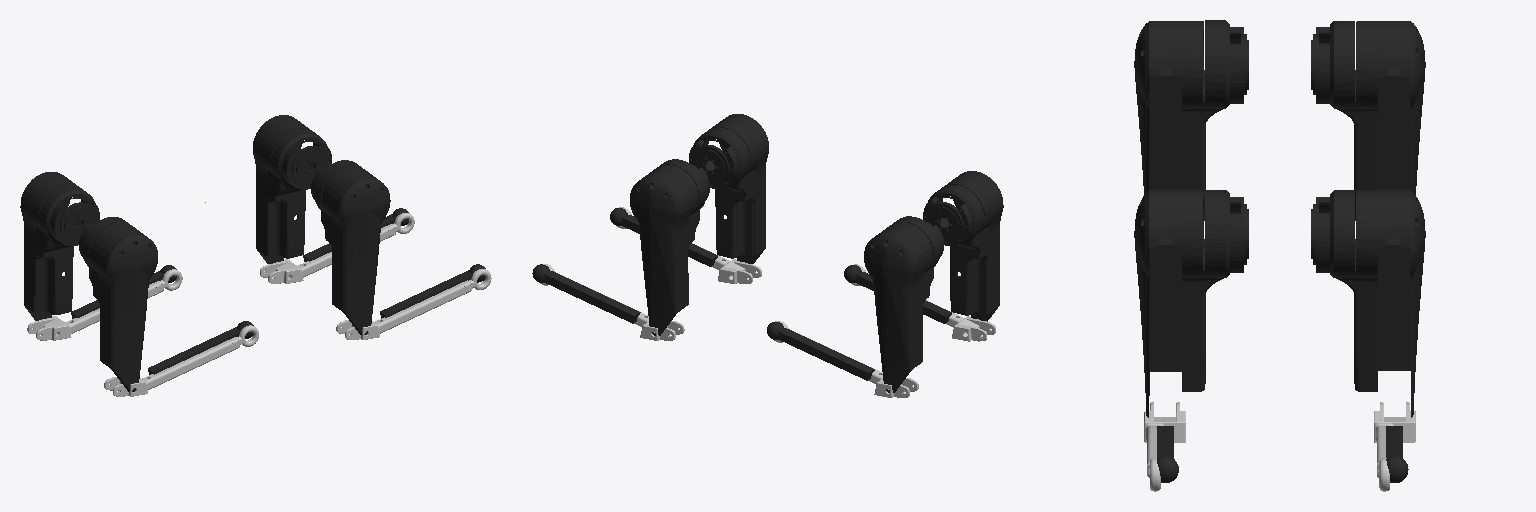
The robot description file, URDF, robot "robot":
<?xml version="1.0" ?>
<robot name="robot">
  <material name="black">
    <color rgba="0.0 0.0 0.0 1.0"/>
  </material>
  <material name="blue">
    <color rgba="0.0 0.0 0.8 1.0"/>
  </material>
  <material name="green">
    <color rgba="0.0 0.8 0.0 1.0"/>
  </material>
  <material name="grey">
    <color rgba="0.2 0.2 0.2 1.0"/>
  </material>
  <material name="silver">
    <color rgba="0.9137254901960784 0.9137254901960784 0.8470588235294118 1.0"/>
  </material>
  <material name="orange">
    <color rgba="1.0 0.4235294117647059 0.0392156862745098 1.0"/>
  </material>
  <material name="brown">
    <color rgba="0.8705882352941177 0.8117647058823529 0.7647058823529411 1.0"/>
  </material>
  <material name="red">
    <color rgba="0.8 0.0 0.0 1.0"/>
  </material>
  <material name="white">
    <color rgba="1.0 1.0 1.0 1.0"/>
  </material>
  <link name="base">
    <visual>
      <origin rpy="0 0 0" xyz="0 0 0"/>
      <geometry>
        <box size="0.001 0.001 0.001"/>
      </geometry>
    </visual>
  </link>
  <joint name="floating_base" type="fixed">
    <origin rpy="0 0 0" xyz="0 0 0"/>
    <parent link="base"/>
    <child link="trunk"/>
  </joint>
  <link name="trunk">
    <visual>
      <origin rpy="0 0 0" xyz="0 0 0"/>
      <geometry>
        <mesh filename="../meshes/trunk.dae" scale="1 1 1"/>
      </geometry>
      <material name="grey"/>
    </visual>
    <collision>
      <origin rpy="0 0 0" xyz="0 0 0"/>
      <geometry>
        <box size="0.647 0.15 0.112"/>
      </geometry>
    </collision>
    <inertial>
      <origin rpy="0 0 0" xyz="0.008465 0.004045 -0.000763"/>
      <mass value="5.21"/>
      <inertia ixx="0.050874" ixy="-0.000451628" ixz="0.000487603" iyy="0.64036" iyz="4.8356e-05" izz="0.65655"/>
    </inertial>
  </link>
  <joint name="FR_hip_joint" type="revolute">
    <origin rpy="0 0 0" xyz="0.2407 -0.051 0"/>
    <parent link="trunk"/>
    <child link="FR_hip"/>
    <axis xyz="1 0 0"/>
    <dynamics damping="0.05" friction="0.01"/>
    <limit effort="23.7" lower="-1.0471975512" upper="1.0471975512" velocity="30.1"/>
  </joint>
  <link name="FR_hip">
    <visual>
      <origin rpy="3.141592653589793 0 0" xyz="0 0 0"/>
      <geometry>
        <mesh filename="../meshes/hip.dae" scale="1 1 1"/>
      </geometry>
      <material name="grey"/>
    </visual>
    <collision>
      <origin rpy="1.5707963267948966 0 0" xyz="0 0 0"/>
      <geometry>
        <cylinder length="0.0418" radius="0.046"/>
      </geometry>
    </collision>
    <inertial>
      <origin rpy="0 0 0" xyz="-0.022191 -0.015144 -1.5e-05"/>
      <mass value="1.993"/>
      <inertia ixx="0.002903894" ixy="7.185e-05" ixz="-1.262e-06" iyy="0.004907517" iyz="1.75e-06" izz="0.005586944"/>
    </inertial>
  </link>
  <joint name="FR_thigh_joint" type="revolute">
    <origin rpy="0 0 0" xyz="0 -0.0868 0"/>
    <parent link="FR_hip"/>
    <child link="FR_thigh"/>
    <axis xyz="0 1 0"/>
    <dynamics damping="0.05" friction="0.01"/>
    <limit effort="23.7" lower="-0.663225115758" upper="2.96705972839" velocity="30.1"/>
  </joint>
  <link name="FR_thigh">
    <visual>
      <origin rpy="0 0 0" xyz="0 0 0"/>
      <geometry>
        <mesh filename="../meshes/thigh.dae" scale="1 1 1"/>
      </geometry>
      <material name="grey"/>
    </visual>
    <collision>
      <origin rpy="0 1.6707963267948966 0" xyz="-0.015 0 -0.125"/>
      <geometry>
        <box size="0.25 0.0374 0.043"/>
      </geometry>
    </collision>
    <collision>
      <origin rpy="1.5707963267948966 0 0" xyz="0 -0.0 0"/>
      <geometry>
        <cylinder length="0.03" radius="0.044"/>
      </geometry>
    </collision>
    <inertial>
      <origin rpy="0 0 0" xyz="-0.005607 0.003877 -0.048199"/>
      <mass value="0.639"/>
      <inertia ixx="0.005666803" ixy="-3.597e-06" ixz="0.000491446" iyy="0.005847229" iyz="-1.0086e-05" izz="0.000369811"/>
    </inertial>
  </link>
  <joint name="FR_calf_joint" type="revolute">
    <origin rpy="0 0 0" xyz="0 0 -0.25"/>
    <parent link="FR_thigh"/>
    <child link="FR_calf"/>
    <axis xyz="0 1 0"/>
    <dynamics damping="0.05" friction="0.01"/>
    <limit effort="23.7" lower="-2.72271363311" upper="-0.837758040957" velocity="30.1"/>
  </joint>
  <link name="FR_calf">
    <visual>
      <origin rpy="0 0 0" xyz="0 0 0"/>
      <geometry>
        <mesh filename="../meshes/calf.dae" scale="1 1 1"/>
      </geometry>
    </visual>
    <collision>
      <origin rpy="0 1.5707963267948966 0" xyz="0.008 0 -0.125"/>
      <geometry>
        <box size="0.25 0.04 0.03"/>
      </geometry>
    </collision>
    <collision>
      <origin rpy="0 0 0" xyz="0 0 -0.25"/>
      <geometry>
        <sphere radius="0.02"/>
      </geometry>
    </collision>
    <inertial>
      <origin rpy="0 0 0" xyz="0.002781 6.3e-05 -0.142518"/>
      <mass value="0.207"/>
      <inertia ixx="0.006341369" ixy="-3e-09" ixz="-8.7951e-05" iyy="0.006355157" iyz="-1.336e-06" izz="3.9188e-05"/>
    </inertial>
  </link>
  <joint name="FR_foot_fixed" type="fixed" dont_collapse="true">
    <origin rpy="0 0 0" xyz="0 0 -0.25"/>
    <parent link="FR_calf"/>
    <child link="FR_foot"/>
  </joint>
  <link name="FR_foot">
    <visual>
      <origin rpy="0 1.57079632679 0" xyz="0 0 0.1"/>
      <geometry>
        <box size="0.2 0.0208 0.016"/>
      </geometry>
      <material name="grey"/>
    </visual>
    <visual>
      <origin rpy="0 0 0" xyz="0 0 0"/>
      <geometry>
        <sphere radius="0.0165"/>
      </geometry>
      <material name="grey"/>
    </visual>
    <collision>
      <origin rpy="0 0 0" xyz="0 0 0"/>
      <geometry>
        <sphere radius="0.0165"/>
      </geometry>
    </collision>
    <inertial>
      <mass value="0.06"/>
      <inertia ixx="1.6854e-05" ixy="0.0" ixz="0.0" iyy="1.6854e-05" iyz="0.0" izz="1.6854e-05"/>
    </inertial>
  </link>
  <joint name="FL_hip_joint" type="revolute">
    <origin rpy="0 0 0" xyz="0.2407 0.051 0"/>
    <parent link="trunk"/>
    <child link="FL_hip"/>
    <axis xyz="1 0 0"/>
    <dynamics damping="0.05" friction="0.01"/>
    <limit effort="23.7" lower="-1.0471975512" upper="1.0471975512" velocity="30.1"/>
  </joint>
  <link name="FL_hip">
    <visual>
      <origin rpy="0 0 0" xyz="0 0 0"/>
      <geometry>
        <mesh filename="../meshes/hip.dae" scale="1 1 1"/>
      </geometry>
      <material name="grey"/>
    </visual>
    <collision>
      <origin rpy="1.5707963267948966 0 0" xyz="0 0 0"/>
      <geometry>
        <cylinder length="0.0418" radius="0.046"/>
      </geometry>
    </collision>
    <inertial>
      <origin rpy="0 0 0" xyz="-0.022191 0.015144 -1.5e-05"/>
      <mass value="1.993"/>
      <inertia ixx="0.002903894" ixy="-7.185e-05" ixz="-1.262e-06" iyy="0.004907517" iyz="-1.75e-06" izz="0.005586944"/>
    </inertial>
  </link>
  <joint name="FL_thigh_joint" type="revolute">
    <origin rpy="0 0 0" xyz="0 0.0868 0"/>
    <parent link="FL_hip"/>
    <child link="FL_thigh"/>
    <axis xyz="0 1 0"/>
    <dynamics damping="0.05" friction="0.01"/>
    <limit effort="23.7" lower="-0.663225115758" upper="2.96705972839" velocity="30.1"/>
  </joint>
  <link name="FL_thigh">
    <visual>
      <origin rpy="0 0 0" xyz="0 0 0"/>
      <geometry>
        <mesh filename="../meshes/thigh_mirror.dae" scale="1 1 1"/>
      </geometry>
      <material name="grey"/>
    </visual>
    <collision>
      <origin rpy="0 1.6707963267948966 0" xyz="-0.015 0 -0.125"/>
      <geometry>
        <box size="0.25 0.0374 0.043"/>
      </geometry>
    </collision>
    <collision>
      <origin rpy="1.5707963267948966 0 0" xyz="0 0.0 0"/>
      <geometry>
        <cylinder length="0.03" radius="0.044"/>
      </geometry>
    </collision>
    <inertial>
      <origin rpy="0 0 0" xyz="-0.005607 -0.003877 -0.048199"/>
      <mass value="0.639"/>
      <inertia ixx="0.005666803" ixy="3.597e-06" ixz="0.000491446" iyy="0.005847229" iyz="1.0086e-05" izz="0.000369811"/>
    </inertial>
  </link>
  <joint name="FL_calf_joint" type="revolute">
    <origin rpy="0 0 0" xyz="0 0 -0.25"/>
    <parent link="FL_thigh"/>
    <child link="FL_calf"/>
    <axis xyz="0 1 0"/>
    <dynamics damping="0.05" friction="0.01"/>
    <limit effort="23.7" lower="-2.72271363311" upper="-0.837758040957" velocity="30.1"/>
  </joint>
  <link name="FL_calf">
    <visual>
      <origin rpy="0 0 0" xyz="0 0 0"/>
      <geometry>
        <mesh filename="../meshes/calf.dae" scale="1 1 1"/>
      </geometry>
    </visual>
    <collision>
      <origin rpy="0 1.5707963267948966 0" xyz="0.008 0 -0.125"/>
      <geometry>
        <box size="0.25 0.04 0.03"/>
      </geometry>
    </collision>
    <collision>
      <origin rpy="0 0 0" xyz="0 0 -0.25"/>
      <geometry>
        <sphere radius="0.02"/>
      </geometry>
    </collision>
    <inertial>
      <origin rpy="0 0 0" xyz="0.002781 6.3e-05 -0.142518"/>
      <mass value="0.207"/>
      <inertia ixx="0.006341369" ixy="-3e-09" ixz="-8.7951e-05" iyy="0.006355157" iyz="-1.336e-06" izz="3.9188e-05"/>
    </inertial>
  </link>
  <joint name="FL_foot_fixed" type="fixed" dont_collapse="true">
    <origin rpy="0 0 0" xyz="0 0 -0.25"/>
    <parent link="FL_calf"/>
    <child link="FL_foot"/>
  </joint>
  <link name="FL_foot">
    <visual>
      <origin rpy="0 1.57079632679 0" xyz="0 0 0.1"/>
      <geometry>
        <box size="0.2 0.0208 0.016"/>
      </geometry>
      <material name="grey"/>
    </visual>
    <visual>
      <origin rpy="0 0 0" xyz="0 0 0"/>
      <geometry>
        <sphere radius="0.0165"/>
      </geometry>
      <material name="grey"/>
    </visual>
    <collision>
      <origin rpy="0 0 0" xyz="0 0 0"/>
      <geometry>
        <sphere radius="0.0165"/>
      </geometry>
    </collision>
    <inertial>
      <mass value="0.06"/>
      <inertia ixx="1.6854e-05" ixy="0.0" ixz="0.0" iyy="1.6854e-05" iyz="0.0" izz="1.6854e-05"/>
    </inertial>
  </link>
  <joint name="RR_hip_joint" type="revolute">
    <origin rpy="0 0 0" xyz="-0.2407 -0.051 0"/>
    <parent link="trunk"/>
    <child link="RR_hip"/>
    <axis xyz="1 0 0"/>
    <dynamics damping="0.05" friction="0.01"/>
    <limit effort="23.7" lower="-1.0471975512" upper="1.0471975512" velocity="30.1"/>
  </joint>
  <link name="RR_hip">
    <visual>
      <origin rpy="3.141592653589793 3.141592653589793 0" xyz="0 0 0"/>
      <geometry>
        <mesh filename="../meshes/hip.dae" scale="1 1 1"/>
      </geometry>
      <material name="grey"/>
    </visual>
    <collision>
      <origin rpy="1.5707963267948966 0 0" xyz="0 0 0"/>
      <geometry>
        <cylinder length="0.0418" radius="0.046"/>
      </geometry>
    </collision>
    <inertial>
      <origin rpy="0 0 0" xyz="0.022191 -0.015144 -1.5e-05"/>
      <mass value="1.993"/>
      <inertia ixx="0.002903894" ixy="-7.185e-05" ixz="1.262e-06" iyy="0.004907517" iyz="1.75e-06" izz="0.005586944"/>
    </inertial>
  </link>
  <joint name="RR_thigh_joint" type="revolute">
    <origin rpy="0 0 0" xyz="0 -0.0868 0"/>
    <parent link="RR_hip"/>
    <child link="RR_thigh"/>
    <axis xyz="0 1 0"/>
    <dynamics damping="0.05" friction="0.01"/>
    <limit effort="23.7" lower="-0.663225115758" upper="2.96705972839" velocity="30.1"/>
  </joint>
  <link name="RR_thigh">
    <visual>
      <origin rpy="0 0 0" xyz="0 0 0"/>
      <geometry>
        <mesh filename="../meshes/thigh.dae" scale="1 1 1"/>
      </geometry>
      <material name="grey"/>
    </visual>
    <collision>
      <origin rpy="0 1.6707963267948966 0" xyz="-0.015 0 -0.125"/>
      <geometry>
        <box size="0.25 0.0374 0.043"/>
      </geometry>
    </collision>
    <collision>
      <origin rpy="1.5707963267948966 0 0" xyz="0 -0.0 0"/>
      <geometry>
        <cylinder length="0.03" radius="0.044"/>
      </geometry>
    </collision>
    <inertial>
      <origin rpy="0 0 0" xyz="-0.005607 0.003877 -0.048199"/>
      <mass value="0.639"/>
      <inertia ixx="0.005666803" ixy="-3.597e-06" ixz="0.000491446" iyy="0.005847229" iyz="-1.0086e-05" izz="0.000369811"/>
    </inertial>
  </link>
  <joint name="RR_calf_joint" type="revolute">
    <origin rpy="0 0 0" xyz="0 0 -0.25"/>
    <parent link="RR_thigh"/>
    <child link="RR_calf"/>
    <axis xyz="0 1 0"/>
    <dynamics damping="0.05" friction="0.01"/>
    <limit effort="23.7" lower="-2.72271363311" upper="-0.837758040957" velocity="30.1"/>
  </joint>
  <link name="RR_calf">
    <visual>
      <origin rpy="0 0 0" xyz="0 0 0"/>
      <geometry>
        <mesh filename="../meshes/calf.dae" scale="1 1 1"/>
      </geometry>
    </visual>
    <collision>
      <origin rpy="0 1.5707963267948966 0" xyz="0.008 0 -0.125"/>
      <geometry>
        <box size="0.25 0.04 0.03"/>
      </geometry>
    </collision>
    <collision>
      <origin rpy="0 0 0" xyz="0 0 -0.25"/>
      <geometry>
        <sphere radius="0.02"/>
      </geometry>
    </collision>
    <inertial>
      <origin rpy="0 0 0" xyz="0.002781 6.3e-05 -0.142518"/>
      <mass value="0.207"/>
      <inertia ixx="0.006341369" ixy="-3e-09" ixz="-8.7951e-05" iyy="0.006355157" iyz="-1.336e-06" izz="3.9188e-05"/>
    </inertial>
  </link>
  <joint name="RR_foot_fixed" type="fixed" dont_collapse="true">
    <origin rpy="0 0 0" xyz="0 0 -0.25"/>
    <parent link="RR_calf"/>
    <child link="RR_foot"/>
  </joint>
  <link name="RR_foot">
    <visual>
      <origin rpy="0 1.57079632679 0" xyz="0 0 0.1"/>
      <geometry>
        <box size="0.2 0.0208 0.016"/>
      </geometry>
      <material name="grey"/>
    </visual>
    <visual>
      <origin rpy="0 0 0" xyz="0 0 0"/>
      <geometry>
        <sphere radius="0.0165"/>
      </geometry>
      <material name="grey"/>
    </visual>
    <collision>
      <origin rpy="0 0 0" xyz="0 0 0"/>
      <geometry>
        <sphere radius="0.0165"/>
      </geometry>
    </collision>
    <inertial>
      <mass value="0.06"/>
      <inertia ixx="1.6854e-05" ixy="0.0" ixz="0.0" iyy="1.6854e-05" iyz="0.0" izz="1.6854e-05"/>
    </inertial>
  </link>
  <joint name="RL_hip_joint" type="revolute">
    <origin rpy="0 0 0" xyz="-0.2407 0.051 0"/>
    <parent link="trunk"/>
    <child link="RL_hip"/>
    <axis xyz="1 0 0"/>
    <dynamics damping="0.05" friction="0.01"/>
    <limit effort="23.7" lower="-1.0471975512" upper="1.0471975512" velocity="30.1"/>
  </joint>
  <link name="RL_hip">
    <visual>
      <origin rpy="0 3.141592653589793 0" xyz="0 0 0"/>
      <geometry>
        <mesh filename="../meshes/hip.dae" scale="1 1 1"/>
      </geometry>
      <material name="grey"/>
    </visual>
    <collision>
      <origin rpy="1.5707963267948966 0 0" xyz="0 0 0"/>
      <geometry>
        <cylinder length="0.0418" radius="0.046"/>
      </geometry>
    </collision>
    <inertial>
      <origin rpy="0 0 0" xyz="0.022191 0.015144 -1.5e-05"/>
      <mass value="1.993"/>
      <inertia ixx="0.002903894" ixy="7.185e-05" ixz="1.262e-06" iyy="0.004907517" iyz="-1.75e-06" izz="0.005586944"/>
    </inertial>
  </link>
  <joint name="RL_thigh_joint" type="revolute">
    <origin rpy="0 0 0" xyz="0 0.0868 0"/>
    <parent link="RL_hip"/>
    <child link="RL_thigh"/>
    <axis xyz="0 1 0"/>
    <dynamics damping="0.05" friction="0.01"/>
    <limit effort="23.7" lower="-0.663225115758" upper="2.96705972839" velocity="30.1"/>
  </joint>
  <link name="RL_thigh">
    <visual>
      <origin rpy="0 0 0" xyz="0 0 0"/>
      <geometry>
        <mesh filename="../meshes/thigh_mirror.dae" scale="1 1 1"/>
      </geometry>
      <material name="grey"/>
    </visual>
    <collision>
      <origin rpy="0 1.6707963267948966 0" xyz="-0.015 0 -0.125"/>
      <geometry>
        <box size="0.25 0.0374 0.043"/>
      </geometry>
    </collision>
    <collision>
      <origin rpy="1.5707963267948966 0 0" xyz="0 0.0 0"/>
      <geometry>
        <cylinder length="0.03" radius="0.044"/>
      </geometry>
    </collision>
    <inertial>
      <origin rpy="0 0 0" xyz="-0.005607 -0.003877 -0.048199"/>
      <mass value="0.639"/>
      <inertia ixx="0.005666803" ixy="3.597e-06" ixz="0.000491446" iyy="0.005847229" iyz="1.0086e-05" izz="0.000369811"/>
    </inertial>
  </link>
  <joint name="RL_calf_joint" type="revolute">
    <origin rpy="0 0 0" xyz="0 0 -0.25"/>
    <parent link="RL_thigh"/>
    <child link="RL_calf"/>
    <axis xyz="0 1 0"/>
    <dynamics damping="0.05" friction="0.01"/>
    <limit effort="23.7" lower="-2.72271363311" upper="-0.837758040957" velocity="30.1"/>
  </joint>
  <link name="RL_calf">
    <visual>
      <origin rpy="0 0 0" xyz="0 0 0"/>
      <geometry>
        <mesh filename="../meshes/calf.dae" scale="1 1 1"/>
      </geometry>
    </visual>
    <collision>
      <origin rpy="0 1.5707963267948966 0" xyz="0.008 0 -0.125"/>
      <geometry>
        <box size="0.25 0.04 0.03"/>
      </geometry>
    </collision>
    <collision>
      <origin rpy="0 0 0" xyz="0 0 -0.25"/>
      <geometry>
        <sphere radius="0.02"/>
      </geometry>
    </collision>
    <inertial>
      <origin rpy="0 0 0" xyz="0.002781 6.3e-05 -0.142518"/>
      <mass value="0.207"/>
      <inertia ixx="0.006341369" ixy="-3e-09" ixz="-8.7951e-05" iyy="0.006355157" iyz="-1.336e-06" izz="3.9188e-05"/>
    </inertial>
  </link>
  <joint name="RL_foot_fixed" type="fixed" dont_collapse="true">
    <origin rpy="0 0 0" xyz="0 0 -0.25"/>
    <parent link="RL_calf"/>
    <child link="RL_foot"/>
  </joint>
  <link name="RL_foot">
    <visual>
      <origin rpy="0 1.57079632679 0" xyz="0 0 0.1"/>
      <geometry>
        <box size="0.2 0.0208 0.016"/>
      </geometry>
      <material name="grey"/>
    </visual>
    <visual>
      <origin rpy="0 0 0" xyz="0 0 0"/>
      <geometry>
        <sphere radius="0.0165"/>
      </geometry>
      <material name="grey"/>
    </visual>
    <collision>
      <origin rpy="0 0 0" xyz="0 0 0"/>
      <geometry>
        <sphere radius="0.0165"/>
      </geometry>
    </collision>
    <inertial>
      <mass value="0.06"/>
      <inertia ixx="1.6854e-05" ixy="0.0" ixz="0.0" iyy="1.6854e-05" iyz="0.0" izz="1.6854e-05"/>
    </inertial>
  </link>
</robot>

--- What the picture shows (computed from the rendered views, not written in the file) ---
3 views of the same robot in one strip: view 1: azimuth 30°, elevation 25°; view 2: azimuth 150°, elevation 25°; view 3: azimuth 270°, elevation 25° (orthographic).
Model robot with 18 links and 17 joints (12 revolute, 5 fixed), rooted at base, posed all joints at 0 but 4 set to mid-range because 0 is outside their limits (FR_calf_joint = -1.78, FL_calf_joint = -1.78, RR_calf_joint = -1.78, RL_calf_joint = -1.78).
Visible links, largest first — view 1: FR_thigh, RR_thigh, FL_thigh, RL_thigh, FR_calf, RR_calf, RL_calf, FL_calf, RR_foot, FR_foot; view 2: RL_thigh, FL_thigh, FR_thigh, RR_thigh, FL_foot, RL_foot, RR_calf, FR_calf, FR_foot, RR_foot, RL_calf, FL_calf; view 3: FR_thigh, FL_thigh, RR_thigh, RL_thigh, FR_calf, FL_calf, FL_foot, FR_foot.
Boxes of the visible links, bbox=[...] form: FR_thigh: bbox=[311, 160, 390, 334]; RR_thigh: bbox=[79, 217, 157, 391]; FL_thigh: bbox=[253, 115, 331, 263]; RL_thigh: bbox=[20, 172, 99, 320]; FR_calf: bbox=[336, 269, 491, 339]; RR_calf: bbox=[104, 325, 258, 396]; RL_calf: bbox=[27, 269, 182, 340]; FL_calf: bbox=[260, 213, 414, 283]; RR_foot: bbox=[148, 321, 253, 374]; FR_foot: bbox=[380, 264, 485, 318]; RL_thigh: bbox=[864, 216, 943, 392]; FL_thigh: bbox=[630, 159, 709, 335]; FR_thigh: bbox=[689, 114, 768, 263]; RR_thigh: bbox=[923, 171, 1003, 321]; FL_foot: bbox=[532, 264, 640, 323]; RL_foot: bbox=[767, 322, 874, 380]; RR_calf: bbox=[851, 264, 995, 341]; FR_calf: bbox=[617, 207, 761, 283]; FR_foot: bbox=[610, 208, 717, 266]; RR_foot: bbox=[844, 265, 951, 323]; RL_calf: bbox=[774, 321, 918, 397]; FL_calf: bbox=[540, 264, 684, 340]; FR_thigh: bbox=[1134, 190, 1248, 417]; FL_thigh: bbox=[1311, 190, 1425, 417]; RR_thigh: bbox=[1134, 20, 1248, 220]; RL_thigh: bbox=[1311, 21, 1425, 220]; FR_calf: bbox=[1144, 402, 1185, 491]; FL_calf: bbox=[1374, 402, 1415, 491]; FL_foot: bbox=[1386, 426, 1408, 482]; FR_foot: bbox=[1157, 426, 1178, 482].
Size in the robot's own frame: 0.799 by 0.3496 by 0.3169 metres.
Meshes: 5 distinct files referenced, 8 mesh visuals loaded (3 Collada DAE); not drawn: 5 (reference not matched to a file when rendering).